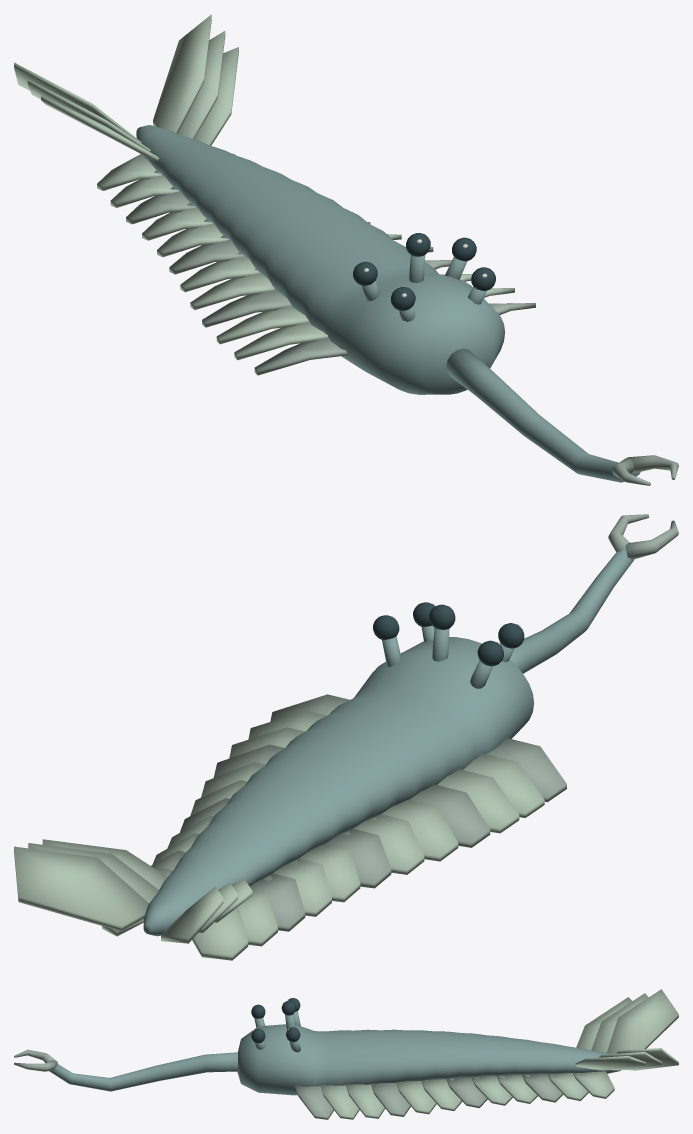
The model's file is opabinia.glb.
3 renders of one model, top to bottom at view 1: azimuth 30°, elevation 25°; view 2: azimuth 150°, elevation 25°; view 3: azimuth 270°, elevation 25°, orthographic. The views are drawn at different scales.
Parts seen in each view (by area): view 1: continuous-low-body-head-and-tapered-trunk, paired-soft-overlapping-lateral-lobes-and-tail-fan, single-curving-proboscis-and-opposed-terminal-grasper, five-short-eye-stalks-and-five-eyes; view 2: paired-soft-overlapping-lateral-lobes-and-tail-fan, continuous-low-body-head-and-tapered-trunk, single-curving-proboscis-and-opposed-terminal-grasper, five-short-eye-stalks-and-five-eyes; view 3: continuous-low-body-head-and-tapered-trunk, paired-soft-overlapping-lateral-lobes-and-tail-fan, single-curving-proboscis-and-opposed-terminal-grasper, five-short-eye-stalks-and-five-eyes.
Boxes of the visible parts, <box> form: continuous-low-body-head-and-tapered-trunk: <box>136,125,504,394</box>; paired-soft-overlapping-lateral-lobes-and-tail-fan: <box>14,14,535,375</box>; single-curving-proboscis-and-opposed-terminal-grasper: <box>446,348,678,485</box>; five-short-eye-stalks-and-five-eyes: <box>353,233,495,321</box>; paired-soft-overlapping-lateral-lobes-and-tail-fan: <box>14,694,566,960</box>; continuous-low-body-head-and-tapered-trunk: <box>143,637,533,936</box>; single-curving-proboscis-and-opposed-terminal-grasper: <box>509,514,678,673</box>; five-short-eye-stalks-and-five-eyes: <box>373,602,524,688</box>; continuous-low-body-head-and-tapered-trunk: <box>237,1024,620,1095</box>; paired-soft-overlapping-lateral-lobes-and-tail-fan: <box>295,989,678,1119</box>; single-curving-proboscis-and-opposed-terminal-grasper: <box>14,1049,237,1091</box>; five-short-eye-stalks-and-five-eyes: <box>251,998,300,1052</box>.
Bounding box in the file's own units: 0.05 × 0.0247 × 0.1697.
